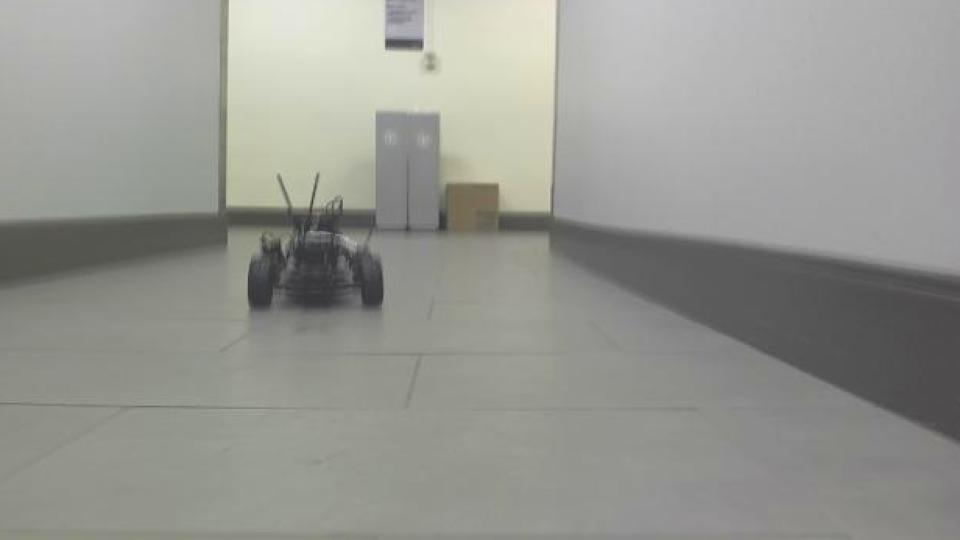car: (244, 168, 387, 314)
